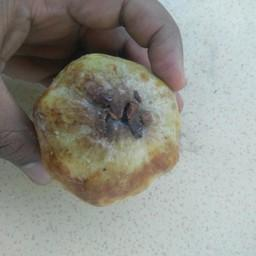Bad_guava: (32, 53, 184, 207)
